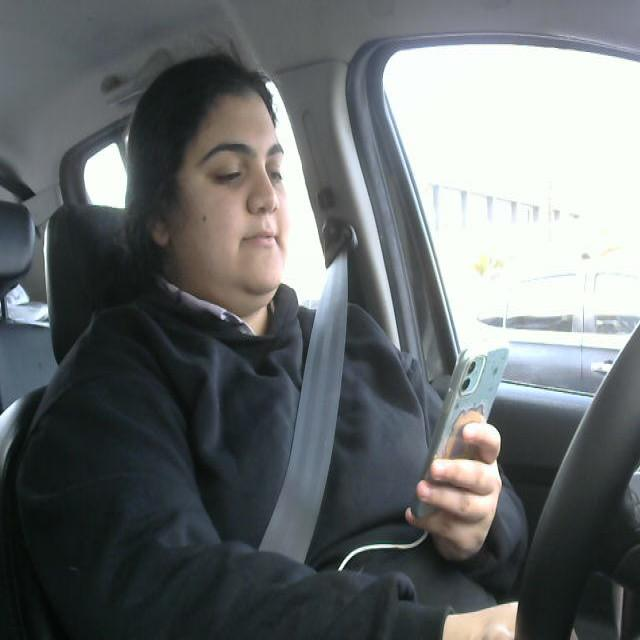mobile use: (414, 340, 508, 526)
